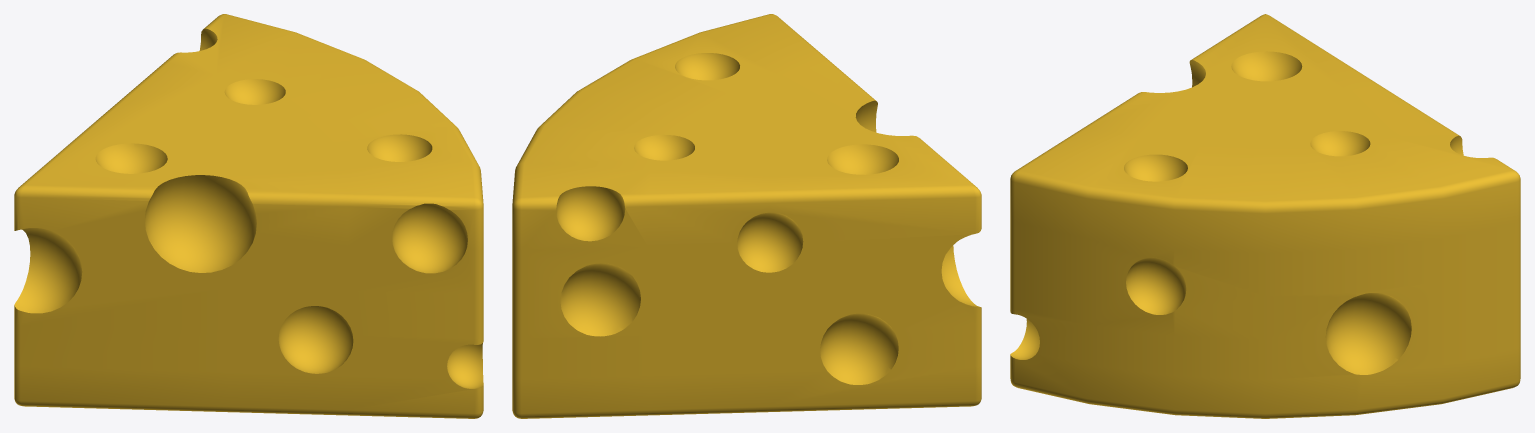
The model's file is quesitoRL.fbx.
3 renders of one model, left to right at view 1: azimuth 30°, elevation 25°; view 2: azimuth 150°, elevation 25°; view 3: azimuth 270°, elevation 25°, orthographic.
Parts seen in each view (by area): view 1: Circle; view 2: Circle; view 3: Circle.
Boxes of the visible parts, x1,y1,x2,y2 form: Circle: (14, 14, 483, 418); Circle: (512, 14, 981, 418); Circle: (1010, 14, 1520, 418).
Size of the model in its own units: 99.08 by 51.36 by 109.
